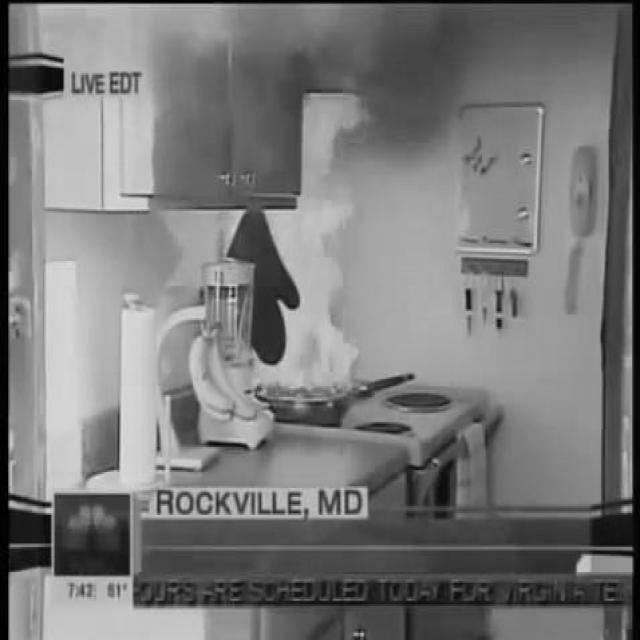fire: (10, 6, 452, 110)
smoke: (220, 92, 370, 403)
